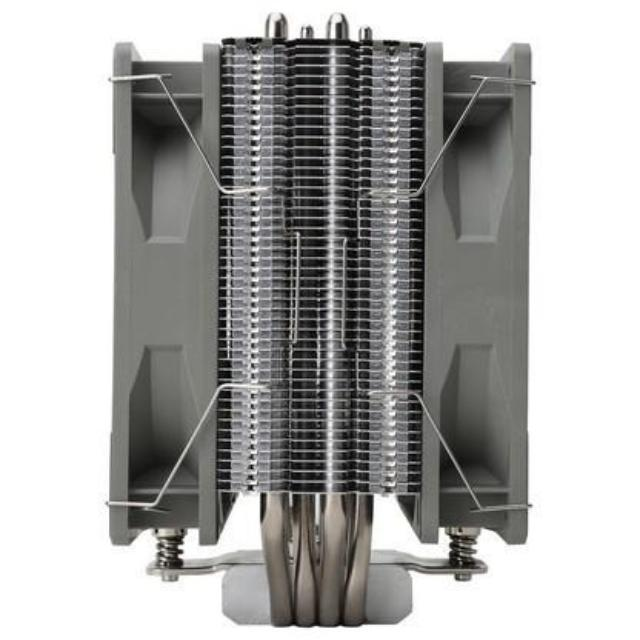CPU_Fan: (94, 0, 542, 623)
